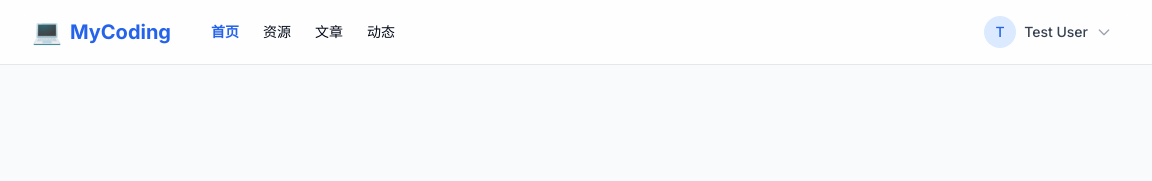
Test: Header Component › 已登录状态 › 点击用户菜单应该显示下拉菜单
Expected: the text "个人中心" is not shown
Click the button with test id "user-menu-button" at x=1048, y=32, box x1=976 y1=8 x2=1120 y2=56
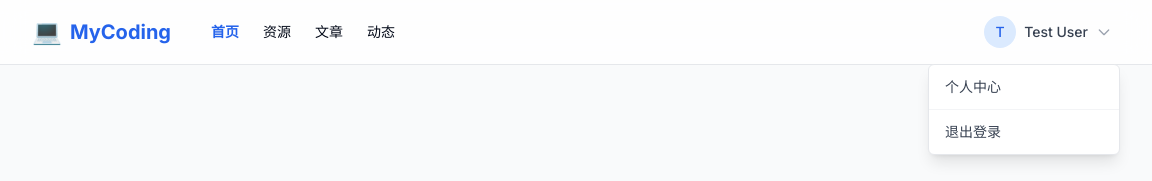
Expected: the link "个人中心" is shown, x1=945 y1=78 x2=1001 y2=95
Expected: the button "退出登录" is shown, x1=929 y1=114 x2=1119 y2=150
